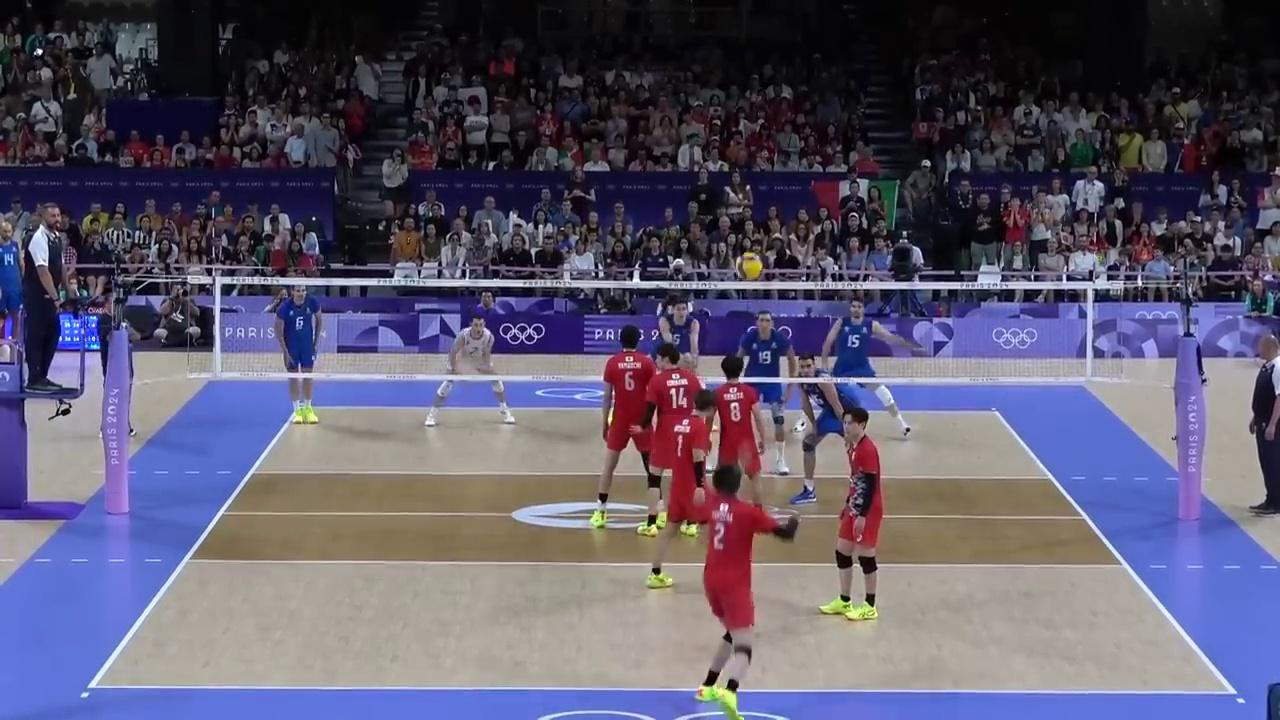ball: (735, 251, 763, 281)
